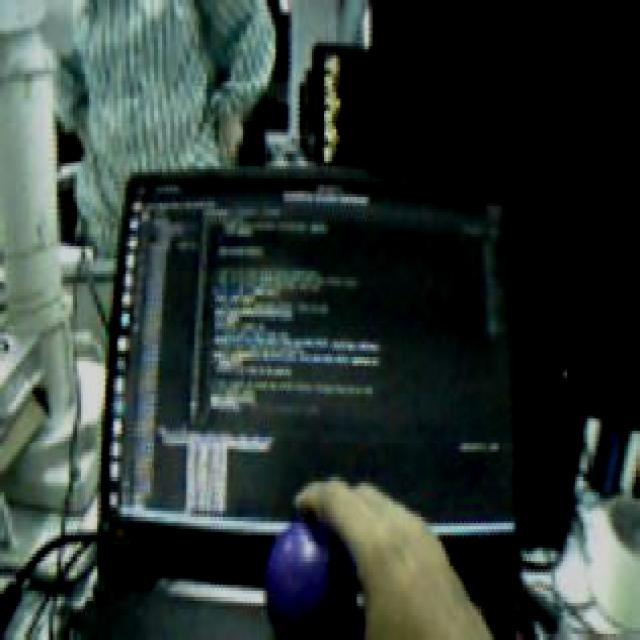BallPurple: (264, 514, 351, 640)
